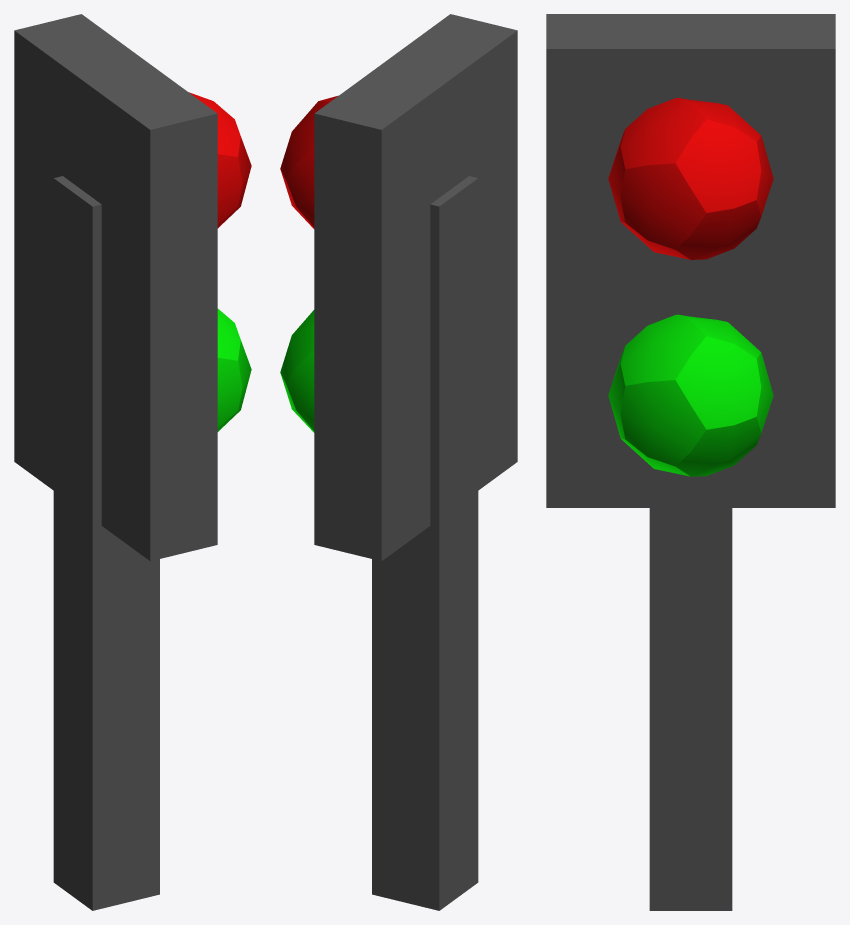
File: Light.fbx
The picture shows the model from 3 angles, left to right: view 1: azimuth 30°, elevation 25°; view 2: azimuth 150°, elevation 25°; view 3: azimuth 270°, elevation 25°; orthographic projection. The views are drawn at different scales.
Parts seen in each view (by area): view 1: pCube4, pCube3, pPlatonic1, pasted__pPlatonic1; view 2: pCube4, pCube3, pPlatonic1, pasted__pPlatonic1; view 3: pCube4, pCube3, pasted__pPlatonic1, pPlatonic1.
Boxes of the visible parts, x1,y1,x2,y2 form: pCube4: [14, 14, 217, 561]; pCube3: [53, 176, 159, 910]; pPlatonic1: [189, 92, 251, 228]; pasted__pPlatonic1: [217, 308, 251, 431]; pCube4: [314, 14, 517, 561]; pCube3: [372, 176, 478, 910]; pPlatonic1: [280, 95, 338, 228]; pasted__pPlatonic1: [280, 310, 314, 432]; pCube4: [546, 14, 835, 507]; pCube3: [649, 508, 732, 910]; pasted__pPlatonic1: [608, 314, 773, 476]; pPlatonic1: [608, 98, 773, 259].
Bounding box in the file's own units: 1.24 × 5.78 × 1.75.
